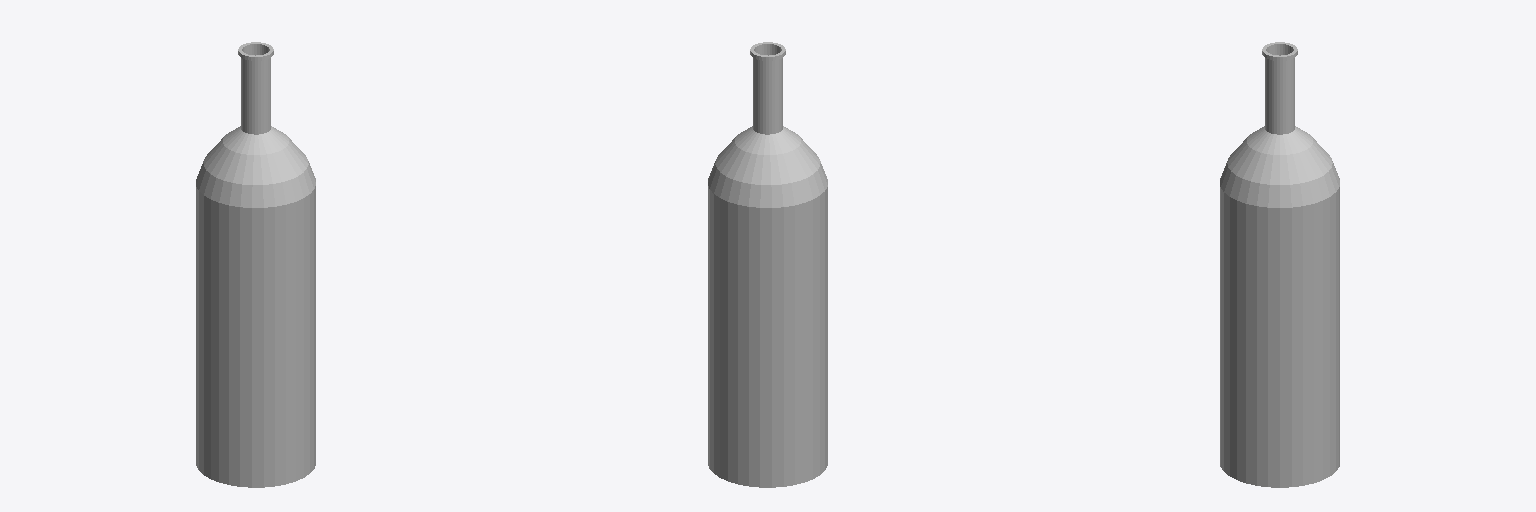
The model's file is bottle1.obj.
The picture shows the model from 3 angles: view 1: azimuth 30°, elevation 25°; view 2: azimuth 150°, elevation 25°; view 3: azimuth 270°, elevation 25°; orthographic projection.
Visible parts, largest first — view 1: Cylinder; view 2: Cylinder; view 3: Cylinder.
Part boxes in pixels (left/top/right/bottom): Cylinder: left=196, top=42, right=315, bottom=487; Cylinder: left=708, top=42, right=827, bottom=487; Cylinder: left=1220, top=42, right=1339, bottom=487.
Bounding box in the file's own units: 0.1403 × 0.5278 × 0.1403.